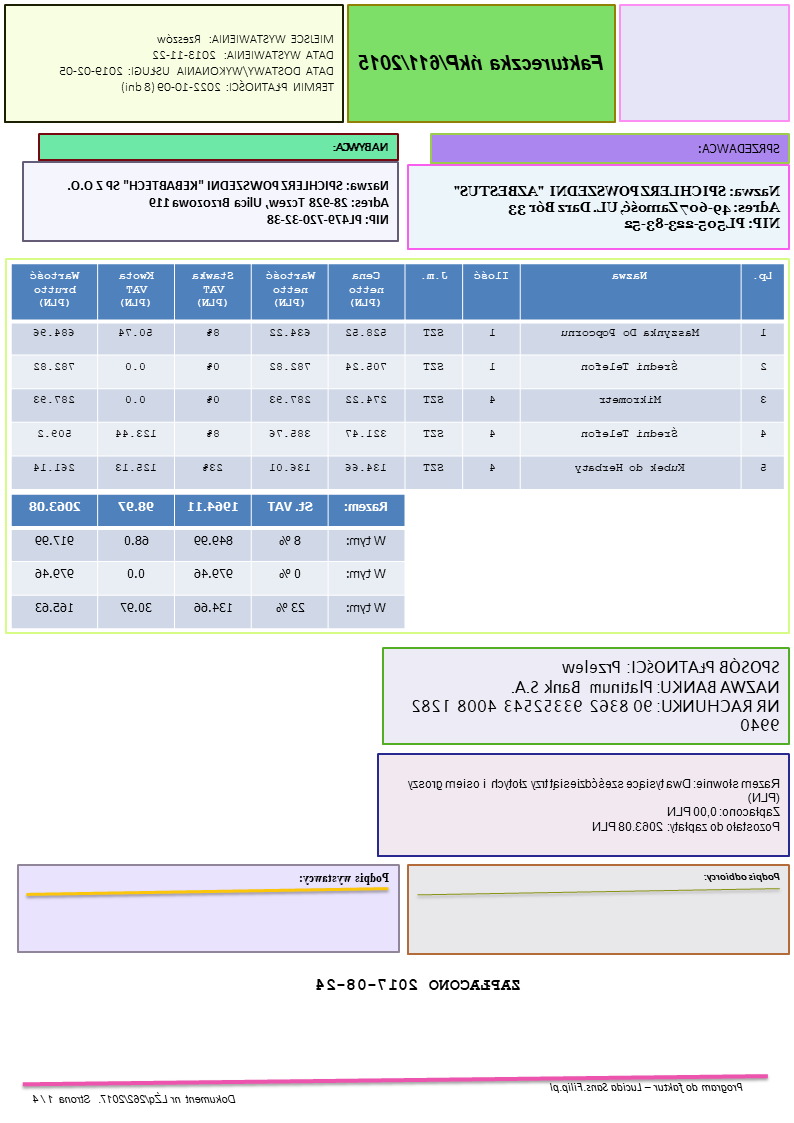Table: (9, 261, 787, 492), (8, 491, 409, 630)
TextBox: (405, 653, 784, 737), (400, 773, 784, 836), (52, 27, 338, 98), (452, 178, 784, 237), (61, 173, 393, 232), (355, 47, 607, 78), (27, 1087, 242, 1112), (312, 974, 524, 996), (545, 1076, 749, 1098), (296, 866, 394, 892), (697, 136, 786, 159), (703, 865, 788, 889), (331, 136, 393, 157)
